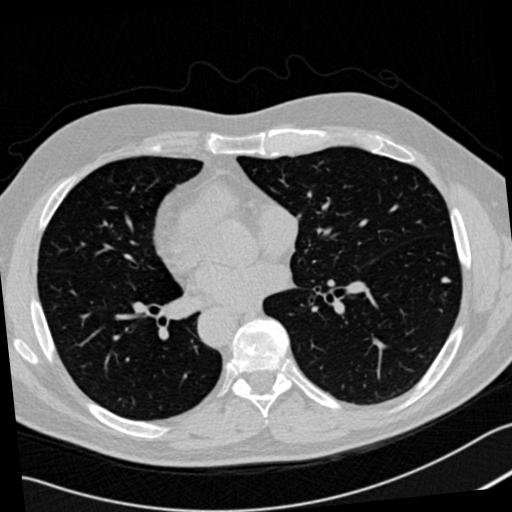nodule: (440, 274, 454, 288)
